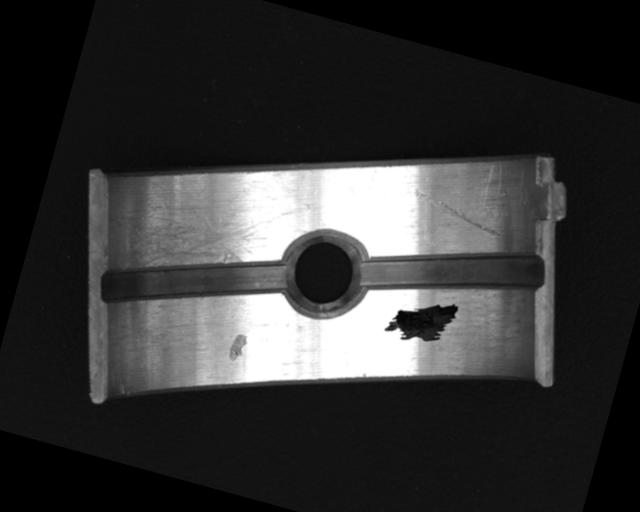blot: (381, 285, 460, 353)
bruise: (226, 331, 249, 364)
gap: (96, 214, 294, 347), (353, 211, 549, 334)
hole: (270, 222, 373, 324)
nick: (408, 187, 507, 238)
scratch: (106, 167, 291, 304)
